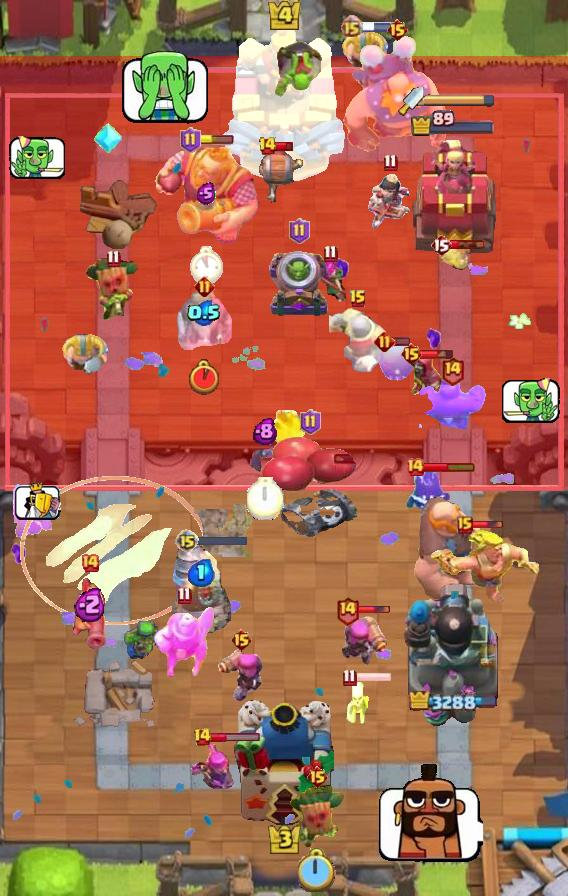archer: (311, 261, 349, 307)
archer-evolution: (188, 740, 240, 792)
bar: (196, 534, 248, 547), (423, 461, 476, 473), (210, 732, 261, 743), (355, 671, 392, 683), (420, 348, 455, 360), (450, 239, 485, 250), (360, 22, 398, 32), (198, 135, 234, 145), (357, 605, 391, 615), (470, 520, 504, 530), (392, 336, 411, 347), (275, 141, 294, 152)
bar-level: (335, 595, 360, 626), (440, 355, 465, 386), (175, 529, 199, 553), (306, 765, 329, 789), (230, 628, 253, 652), (400, 342, 423, 366), (386, 18, 409, 42), (300, 409, 321, 435), (289, 218, 310, 244), (180, 127, 201, 153), (340, 15, 363, 38), (430, 233, 452, 257), (374, 331, 395, 352), (194, 276, 215, 297), (80, 553, 100, 573), (405, 457, 425, 477), (193, 727, 212, 747), (258, 136, 277, 156), (349, 289, 367, 309), (457, 516, 473, 534), (342, 668, 357, 687), (177, 586, 192, 605), (106, 249, 121, 268), (323, 244, 338, 263), (383, 153, 398, 172)
bat: (248, 444, 282, 476)
cannoneer-tower: (402, 579, 504, 731)
clock: (298, 848, 336, 892), (247, 477, 284, 520), (187, 246, 225, 285), (189, 359, 219, 395)
dagger-duchess-tower: (409, 138, 497, 256)
dagger-duchess-tower-bar: (424, 93, 496, 107)
dart-goblin: (288, 784, 346, 852), (84, 258, 142, 324)
dirt: (218, 504, 256, 557), (193, 509, 231, 555)
electro-spirit: (402, 470, 454, 514)
elite-barbarian: (61, 332, 109, 375), (341, 29, 389, 72)
elixir: (74, 586, 107, 622), (187, 300, 221, 326), (188, 559, 215, 587), (253, 417, 277, 445), (196, 182, 216, 205)
elixir-golem-mid: (418, 379, 486, 431)
emote: (375, 761, 483, 864), (116, 50, 212, 126), (501, 373, 562, 426), (7, 131, 66, 182), (12, 483, 61, 521)
firecracker: (218, 647, 264, 703), (340, 614, 389, 666)
goblin-ball: (274, 38, 324, 98)
ice-spirit-evolution-symbol: (94, 121, 122, 155)
king-tower: (220, 21, 348, 181), (234, 700, 334, 826)
knight: (329, 308, 388, 374)
lava-pup: (436, 241, 472, 273)
miner: (152, 603, 216, 681)
mortar-evolution: (267, 249, 331, 319)
musketeer: (70, 574, 110, 650)
phoenix-egg: (377, 338, 417, 382)
princess: (368, 174, 412, 234)
royal-ghost: (175, 285, 233, 353)
skeleton: (343, 681, 373, 727)
spear-goblin: (120, 621, 162, 661)
tower-bar: (410, 110, 496, 137), (409, 691, 497, 714)
wall-breaker: (256, 149, 304, 203)
wizard: (408, 350, 444, 398)
